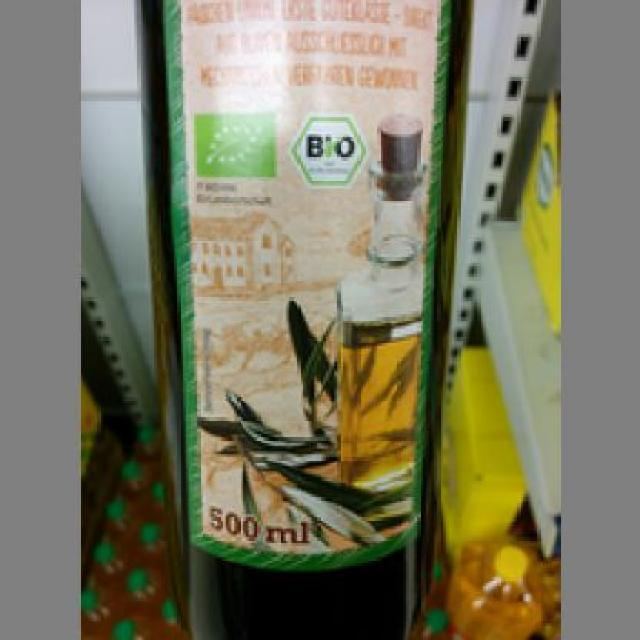Oil: (128, 0, 474, 637)
